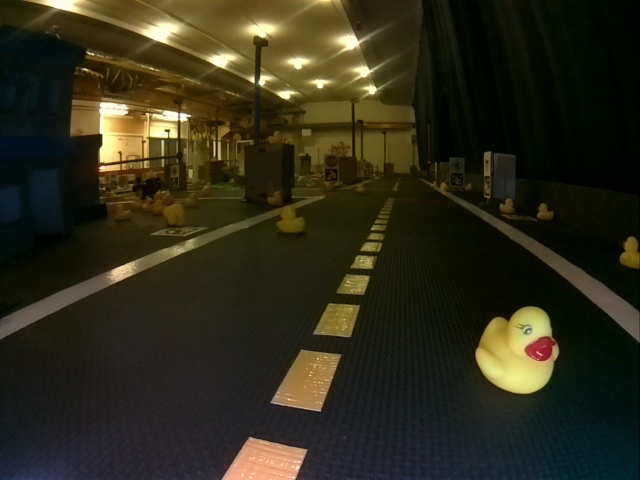Duckie: (475, 306, 560, 392), (277, 206, 304, 233), (164, 204, 185, 224), (620, 237, 636, 263), (537, 203, 553, 220), (267, 191, 282, 205), (500, 199, 514, 211), (357, 184, 365, 193)
Intersection sign: (451, 159, 463, 171)
QR code: (151, 227, 206, 236), (503, 213, 535, 221), (483, 176, 492, 198), (325, 168, 337, 181), (451, 174, 463, 187)
Stop sign: (325, 156, 338, 167)
